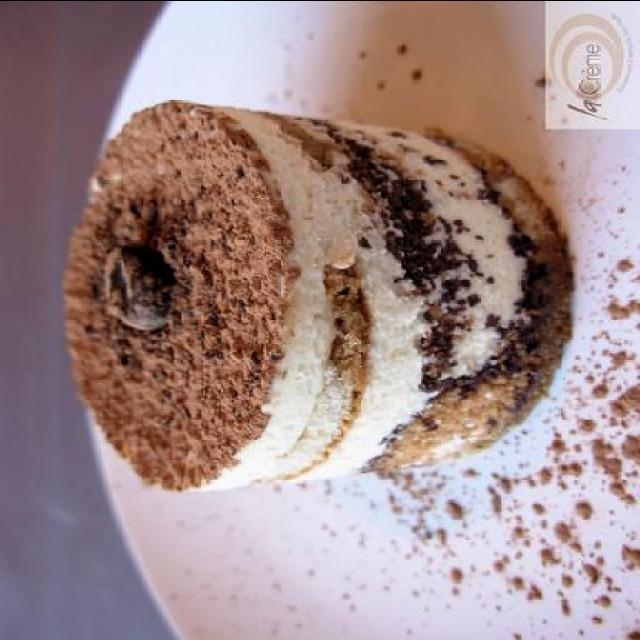Tiramisu: (51, 109, 562, 505)
